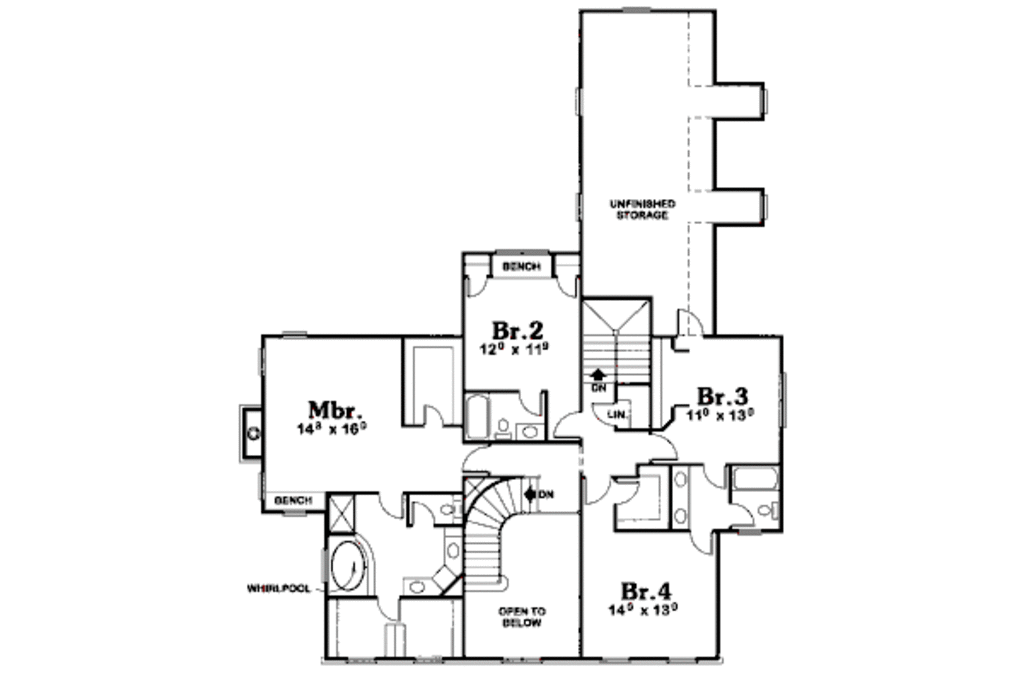door: (649, 426, 685, 468), (582, 475, 617, 505), (418, 402, 450, 434), (553, 412, 586, 441), (463, 271, 495, 300), (672, 308, 706, 334), (374, 490, 403, 520), (377, 592, 402, 625), (730, 502, 759, 530), (700, 462, 730, 489), (410, 497, 435, 529), (688, 531, 715, 560), (518, 386, 544, 416), (551, 275, 581, 297)
large_sink: (490, 416, 517, 441), (757, 500, 784, 521)
small_sink: (400, 531, 461, 593), (669, 468, 692, 533), (515, 420, 548, 445)
stairs: (465, 476, 553, 600), (580, 294, 651, 398)
tub: (329, 535, 381, 598), (464, 390, 493, 442), (726, 465, 782, 491)
window: (571, 85, 588, 119), (755, 191, 771, 222), (756, 87, 772, 117)
